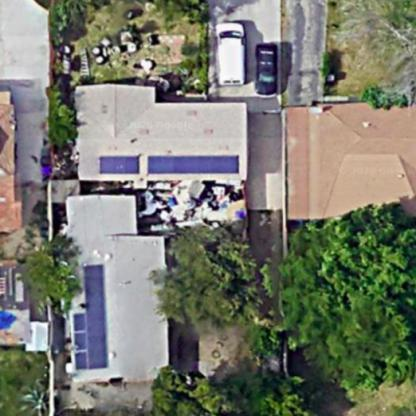car: (210, 15, 249, 90), (253, 37, 284, 96)
solar_panel: (60, 254, 116, 376), (141, 146, 241, 183), (96, 152, 146, 176)
